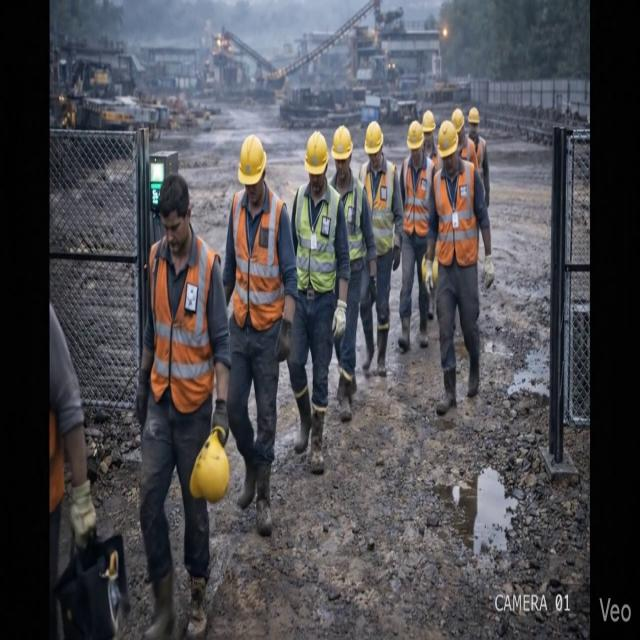Vest: (149, 237, 219, 413), (232, 190, 284, 330), (295, 184, 339, 293), (434, 161, 478, 266), (359, 160, 395, 255), (403, 156, 432, 237), (344, 176, 366, 262), (49, 410, 64, 513), (460, 136, 478, 168), (475, 136, 485, 179)
Worker: (137, 174, 230, 639), (223, 135, 296, 535), (288, 132, 349, 473), (424, 121, 494, 415), (49, 302, 95, 639), (330, 126, 376, 421), (359, 121, 402, 376), (399, 121, 433, 351), (468, 107, 489, 207), (451, 108, 479, 168), (422, 110, 439, 168)
helmet: (190, 427, 230, 503), (238, 135, 266, 185), (305, 132, 328, 175), (438, 120, 458, 158), (364, 121, 384, 155), (332, 126, 352, 159), (407, 120, 423, 150), (422, 110, 436, 134), (451, 108, 464, 132), (468, 107, 479, 124)
